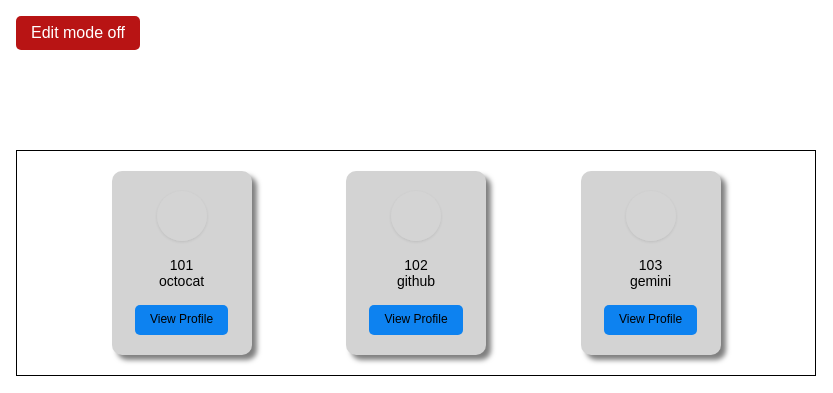
Test: UserList › should toggle edit mode and display action buttons
Click the button "Edit mode off" at (78, 33), box [16,16,140,50]
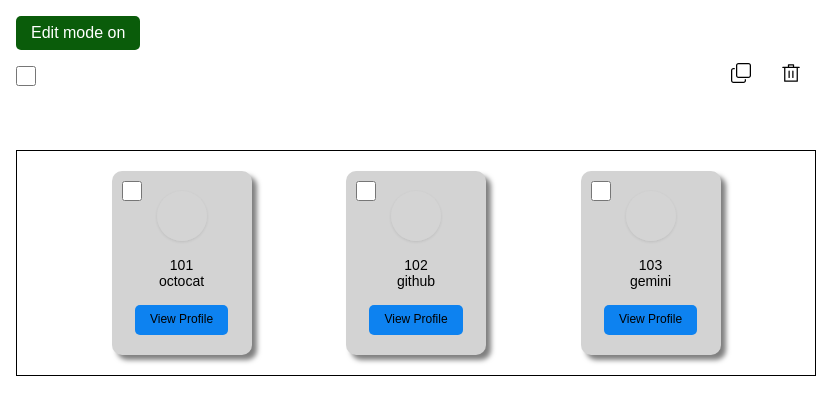
Now the checkbox named "Select all users" is shown, box [16,66,36,86]
Now the button named "Delete selected users" is shown, box [766,55,816,96]
Now the button named "Duplicate selected users" is shown, box [716,55,766,96]
Click the button "Edit mode on" at (78, 33), box [16,16,140,50]
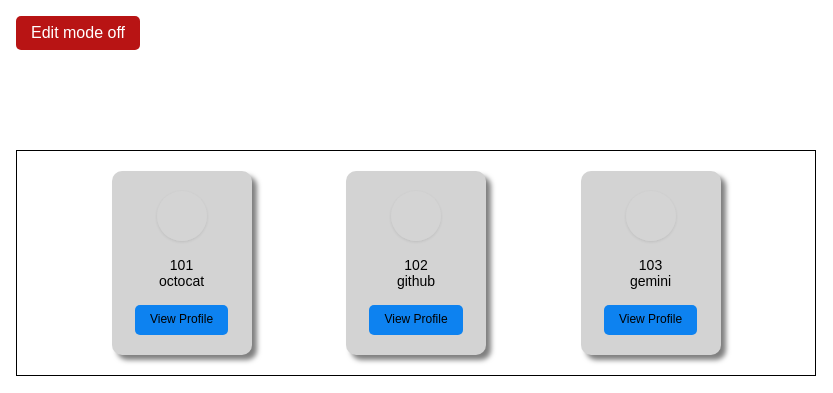
Now the button "Edit mode off" is shown, box [16,16,140,50]
